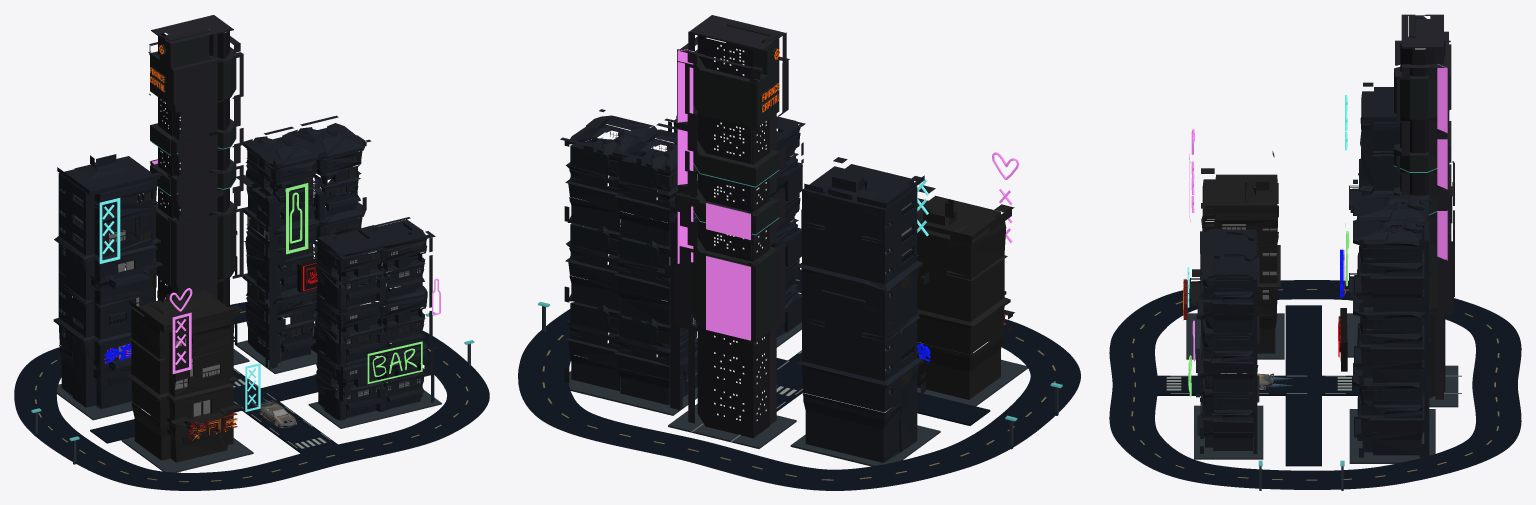
The model's file is landmark.glb.
3 views of the same model, side by side, from view 1: azimuth 30°, elevation 25°; view 2: azimuth 150°, elevation 25°; view 3: azimuth 270°, elevation 25° (orthographic). The views are drawn at different scales.
Visible parts, largest first — view 1: Native Punk Drive / structure, Native Punk Drive / lights, Native Punk Drive / car; view 2: Native Punk Drive / structure, Native Punk Drive / lights; view 3: Native Punk Drive / structure, Native Punk Drive / lights.
Boxes of the visible parts, left/top/right/bottom form: Native Punk Drive / structure: left=14, top=15, right=489, bottom=490; Native Punk Drive / lights: left=31, top=45, right=474, bottom=441; Native Punk Drive / car: left=251, top=398, right=296, bottom=427; Native Punk Drive / structure: left=518, top=15, right=1080, bottom=490; Native Punk Drive / lights: left=538, top=45, right=1062, bottom=421; Native Punk Drive / structure: left=1109, top=14, right=1521, bottom=490; Native Punk Drive / lights: left=1183, top=64, right=1451, bottom=466.
Size of the model in its own units: 10.92 by 8.62 by 9.05.
